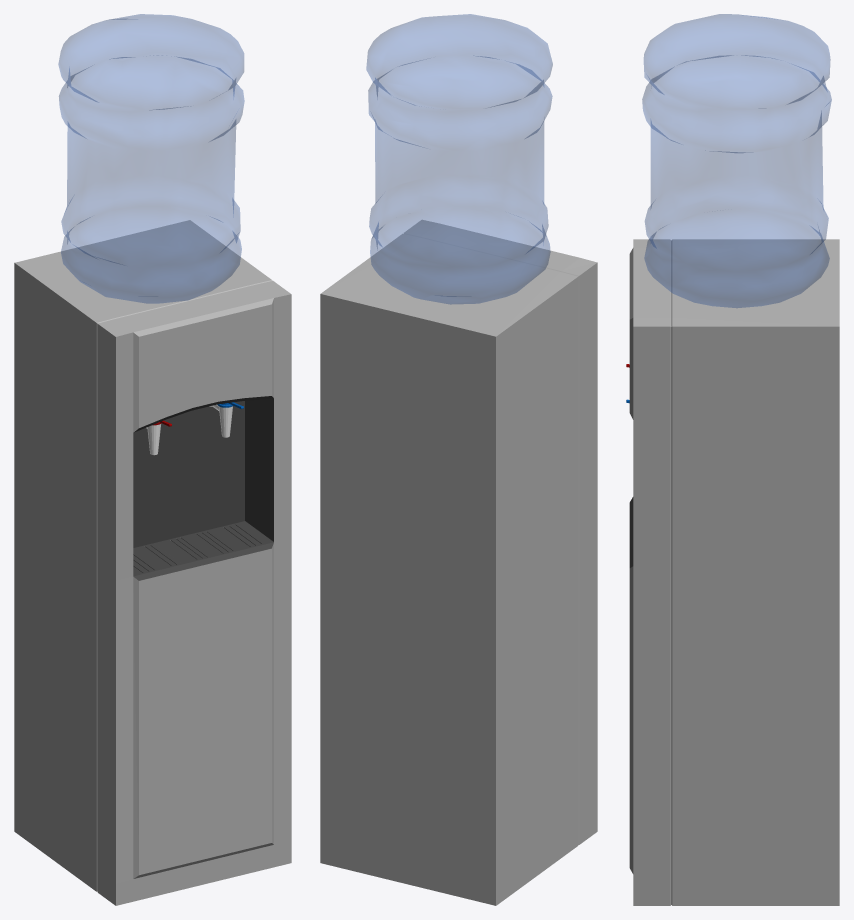
File: Water cooler.fbx
3 renders of one model, left to right at view 1: azimuth 30°, elevation 25°; view 2: azimuth 150°, elevation 25°; view 3: azimuth 270°, elevation 25°, orthographic.
Visible parts, largest first — view 1: water cooler, water bottle; view 2: water cooler, water bottle; view 3: water cooler, water bottle.
Boxes of the visible parts, x1=… form: water cooler: x1=14, y1=220, x2=291, y2=905; water bottle: x1=58, y1=14, x2=244, y2=303; water cooler: x1=320, y1=219, x2=597, y2=905; water bottle: x1=366, y1=14, x2=552, y2=304; water cooler: x1=626, y1=239, x2=839, y2=905; water bottle: x1=642, y1=14, x2=831, y2=307.
Size of the model in its own units: 32.49 by 142 by 33.56.
4 materials, 1 textured.
